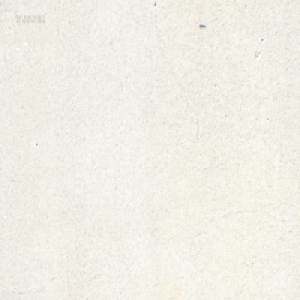Nail: (199, 23, 205, 28)
